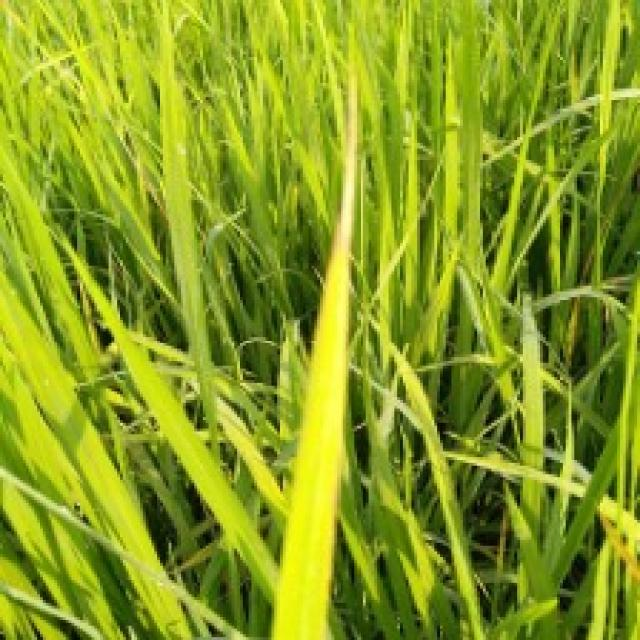Rice___Bacterial_Leaf_Blight: (264, 42, 362, 637)
